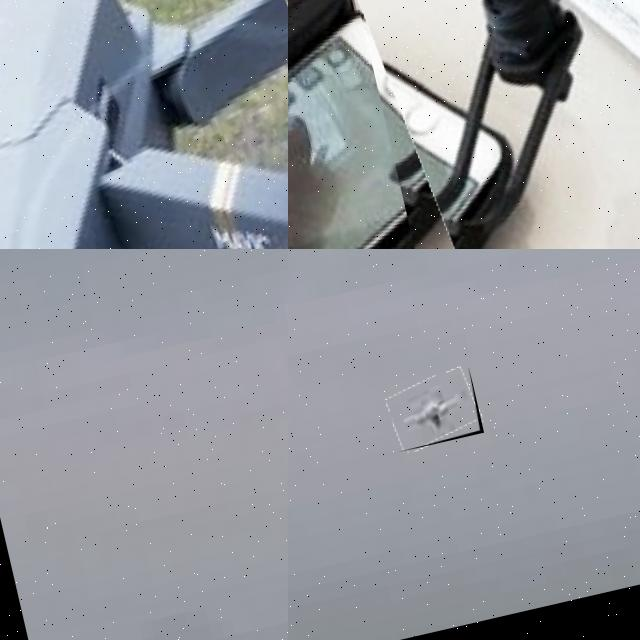0: (384, 367, 484, 451)
drone: (299, 0, 640, 249), (0, 0, 288, 249)
